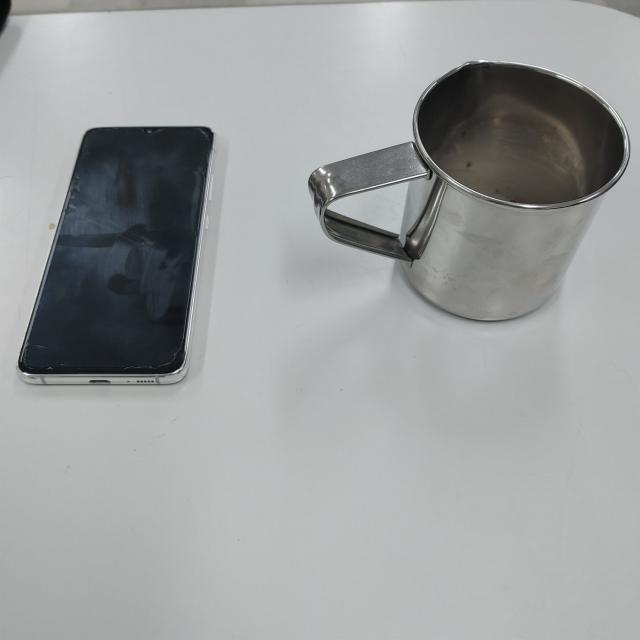cup: (306, 58, 630, 322)
phone: (18, 125, 212, 386)
